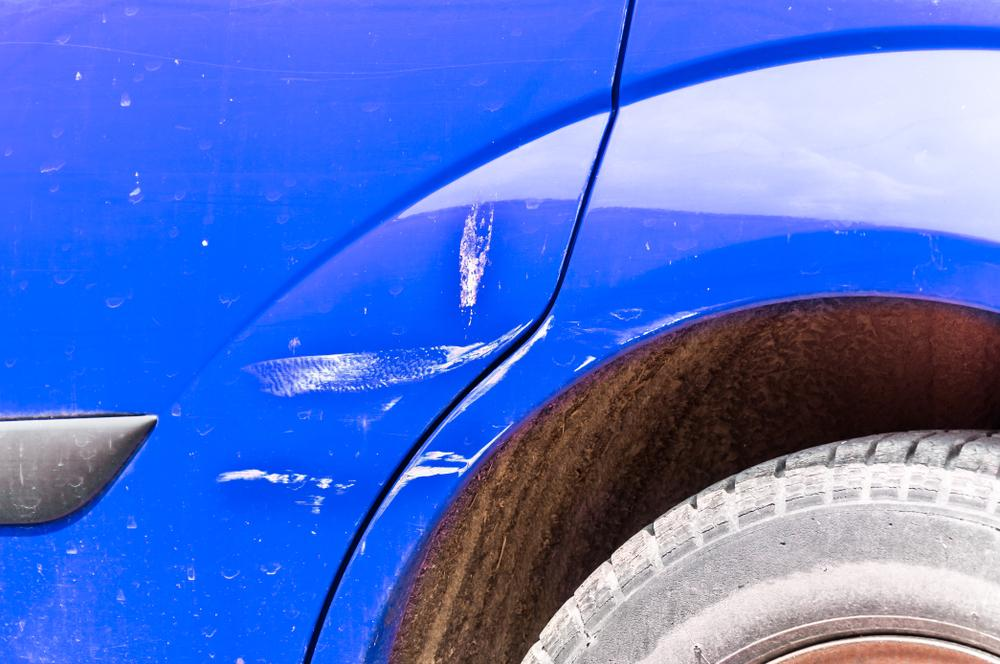scratch: (216, 193, 540, 520), (363, 309, 696, 542)
